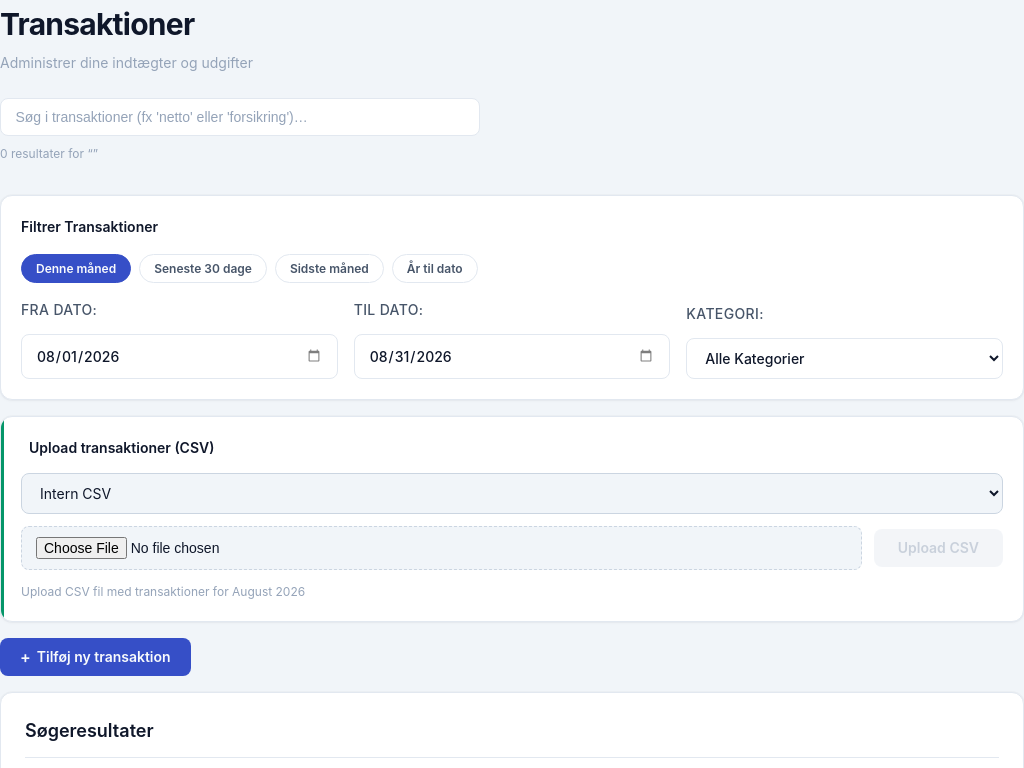
TransactionsPage — tomtilstanden kan ikke lyve › en tom søgning taler om søgeordet, ikke om filtre, og tilbyder ikke "din første transaktion"
Type "xyzzy" into the search field at (240, 117), box [0,98,480,136]
(page scrolled)
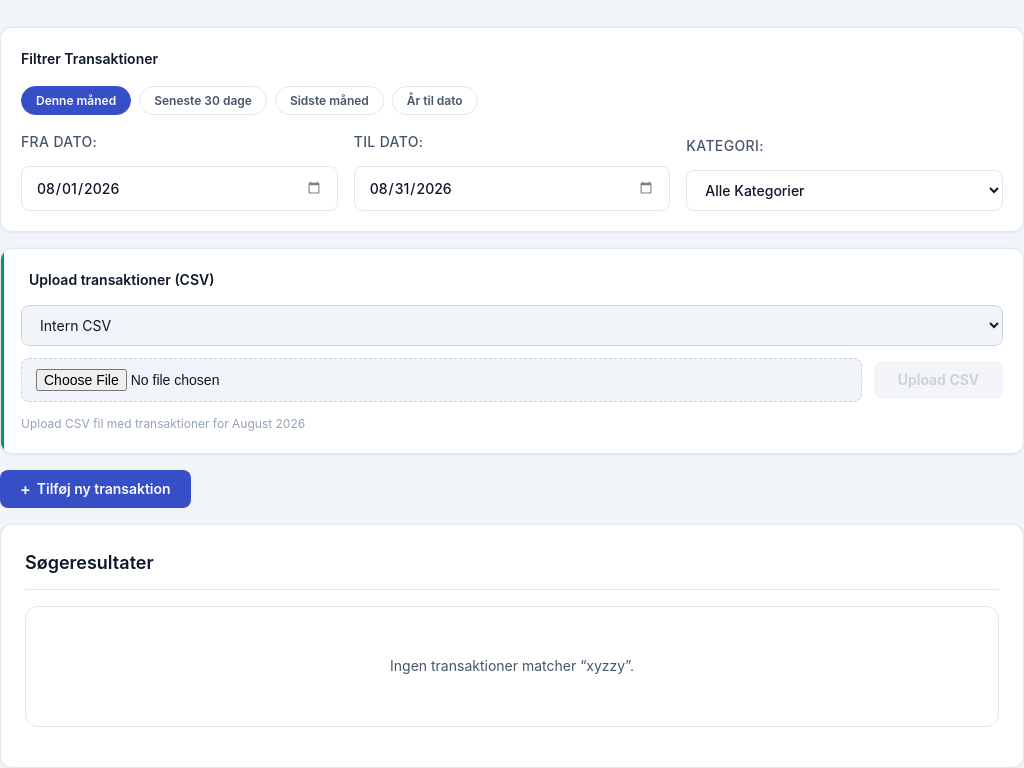
expect the text "Ingen transaktioner matcher “xyzzy”." is shown: met, box [25,606,999,727]
